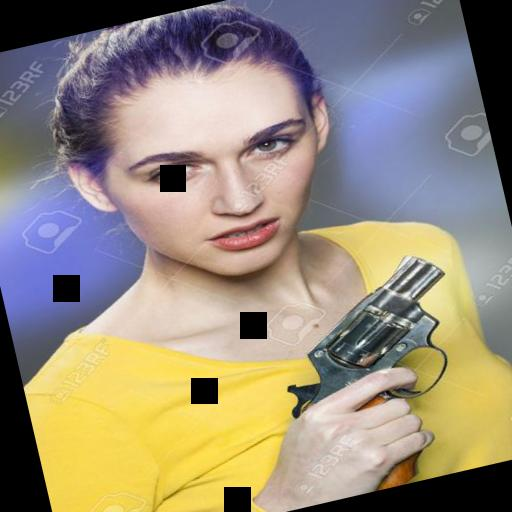Handgun: (260, 250, 474, 426)
